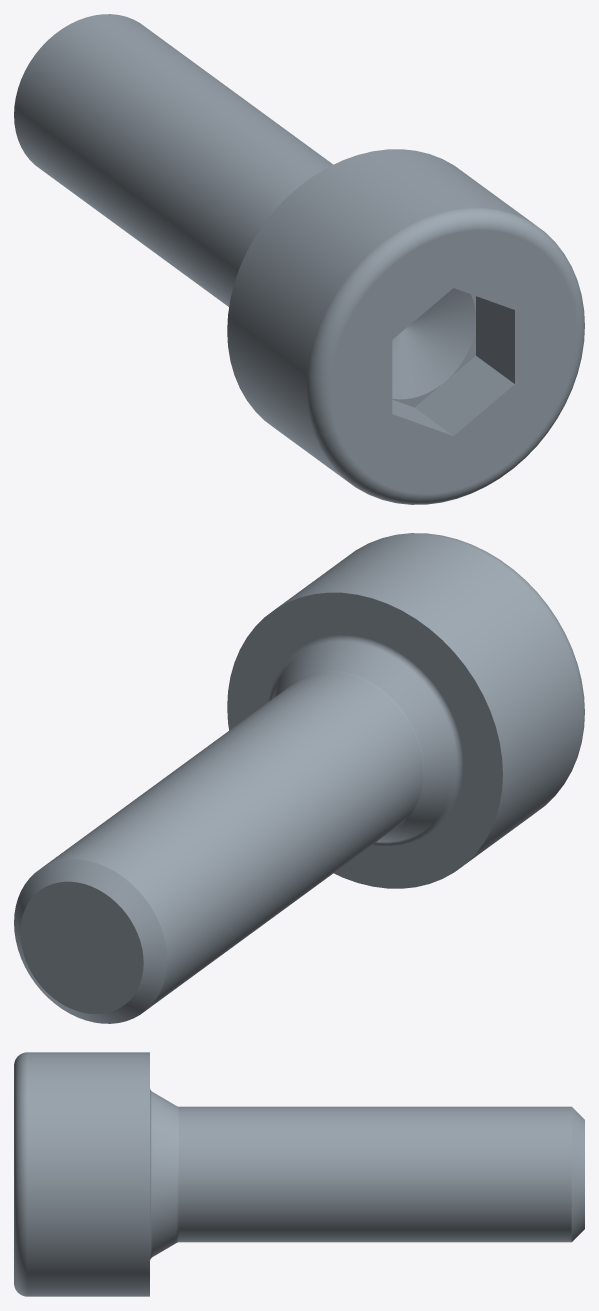
Rendered from Hex_socket_head_cap_screw_M2_5x0_45_x_8.obj.
The picture shows the model from 3 angles, top to bottom: view 1: azimuth 30°, elevation 25°; view 2: azimuth 150°, elevation 25°; view 3: azimuth 270°, elevation 25°; orthographic projection. The views are drawn at different scales.
Visible parts, largest first — view 1: mesh1478, mesh1485, mesh1483, mesh1484, mesh1493, mesh1491, mesh1486, mesh1490; view 2: mesh1478, mesh1483, mesh1482, mesh1476, mesh1480, mesh1477, mesh1481, mesh1484, mesh1479; view 3: mesh1478, mesh1483, mesh1480, mesh1484, mesh1477, mesh1479, mesh1481.
Part boxes in pixels (x1=…): mesh1478: x1=14, y1=14, x2=333, y2=306; mesh1485: x1=331, y1=230, x2=575, y2=493; mesh1483: x1=227, y1=149, x2=532, y2=478; mesh1484: x1=306, y1=207, x2=584, y2=504; mesh1493: x1=392, y1=288, x2=475, y2=399; mesh1491: x1=415, y1=356, x2=514, y2=435; mesh1486: x1=476, y1=296, x2=514, y2=383; mesh1490: x1=392, y1=399, x2=452, y2=435; mesh1478: x1=42, y1=672, x2=422, y2=1009; mesh1483: x1=276, y1=534, x2=582, y2=867; mesh1482: x1=227, y1=592, x2=502, y2=888; mesh1476: x1=20, y1=881, x2=143, y2=1013; mesh1480: x1=272, y1=642, x2=456, y2=841; mesh1477: x1=14, y1=859, x2=167, y2=1023; mesh1481: x1=268, y1=635, x2=463, y2=846; mesh1484: x1=369, y1=533, x2=584, y2=805; mesh1479: x1=289, y1=670, x2=425, y2=830; mesh1478: x1=179, y1=1106, x2=571, y2=1242; mesh1483: x1=27, y1=1052, x2=149, y2=1296; mesh1480: x1=152, y1=1092, x2=176, y2=1256; mesh1484: x1=14, y1=1052, x2=27, y2=1296; mesh1477: x1=571, y1=1107, x2=584, y2=1241; mesh1479: x1=176, y1=1106, x2=179, y2=1242; mesh1481: x1=150, y1=1089, x2=152, y2=1259.
Bounding box in the file's own units: 0.0045 × 0.00449 × 0.0105.
